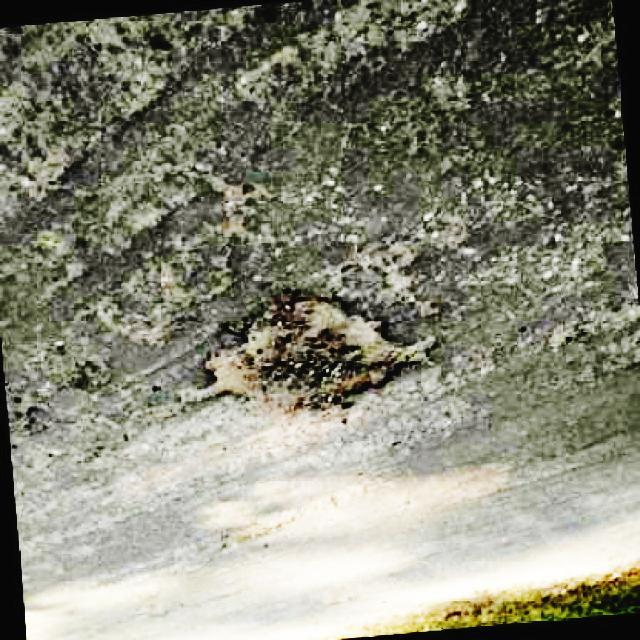pothole: (203, 292, 432, 414)
